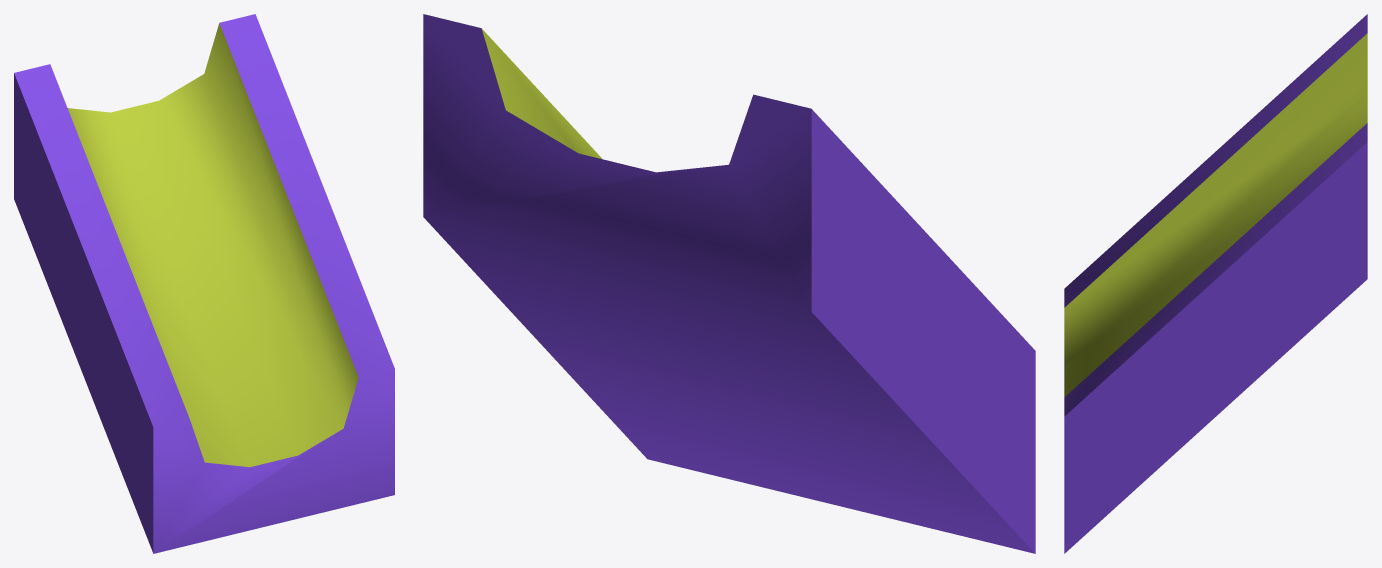
File: slant_C-col.dae
3 renders of one model, left to right at view 1: azimuth 30°, elevation 25°; view 2: azimuth 150°, elevation 25°; view 3: azimuth 270°, elevation 25°, orthographic. The views are drawn at different scales.
Visible parts, largest first — view 1: slant_C-col; view 2: slant_C-col; view 3: slant_C-col.
Boxes of the visible parts, x1,y1,x2,y2 form: slant_C-col: (14, 14, 394, 553); slant_C-col: (423, 14, 1035, 553); slant_C-col: (1064, 14, 1367, 553).
Bounding box in the file's own units: 1 × 1 × 1.5.
